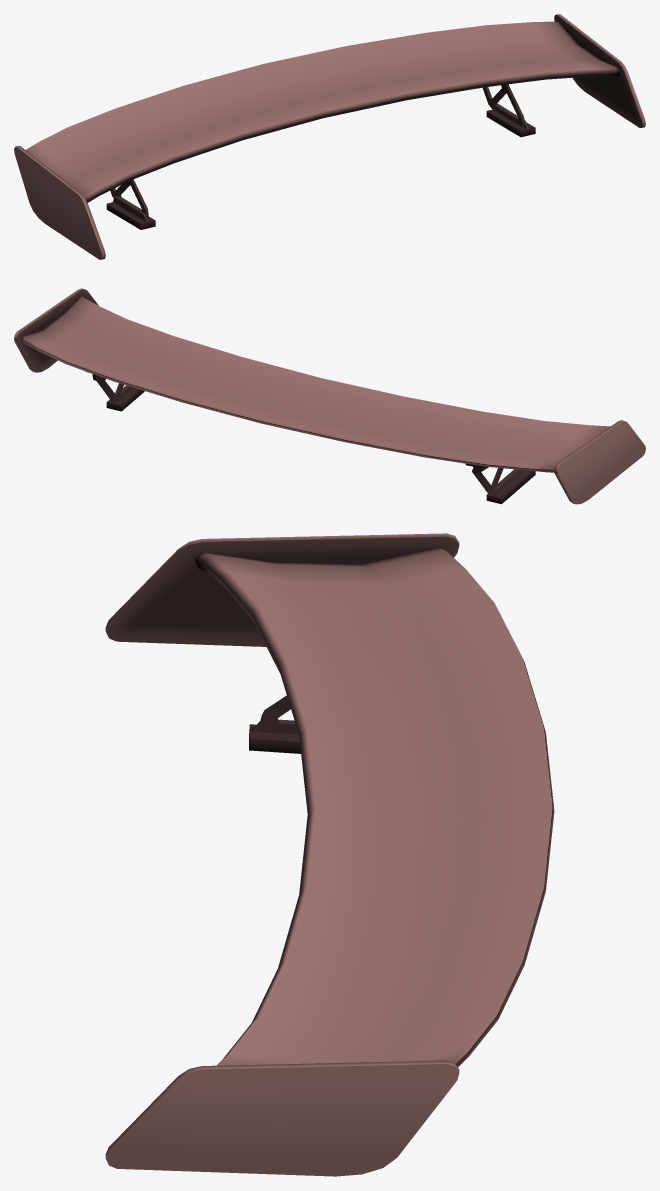
File: Viper_Spoiler_05_Trim.fbx
3 views of the same model, one above another, from view 1: azimuth 30°, elevation 25°; view 2: azimuth 150°, elevation 25°; view 3: azimuth 270°, elevation 25° (orthographic). The views are drawn at different scales.
Visible parts, largest first — view 1: Viper_Spoiler_05_Trim; view 2: Viper_Spoiler_05_Trim; view 3: Viper_Spoiler_05_Trim.
Part boxes in pixels (x1,y1,x2,y2): Viper_Spoiler_05_Trim: (14, 14, 645, 259); Viper_Spoiler_05_Trim: (14, 288, 645, 504); Viper_Spoiler_05_Trim: (105, 533, 554, 1176).
Bounding box in the file's own units: 152 × 18.61 × 54.41.
